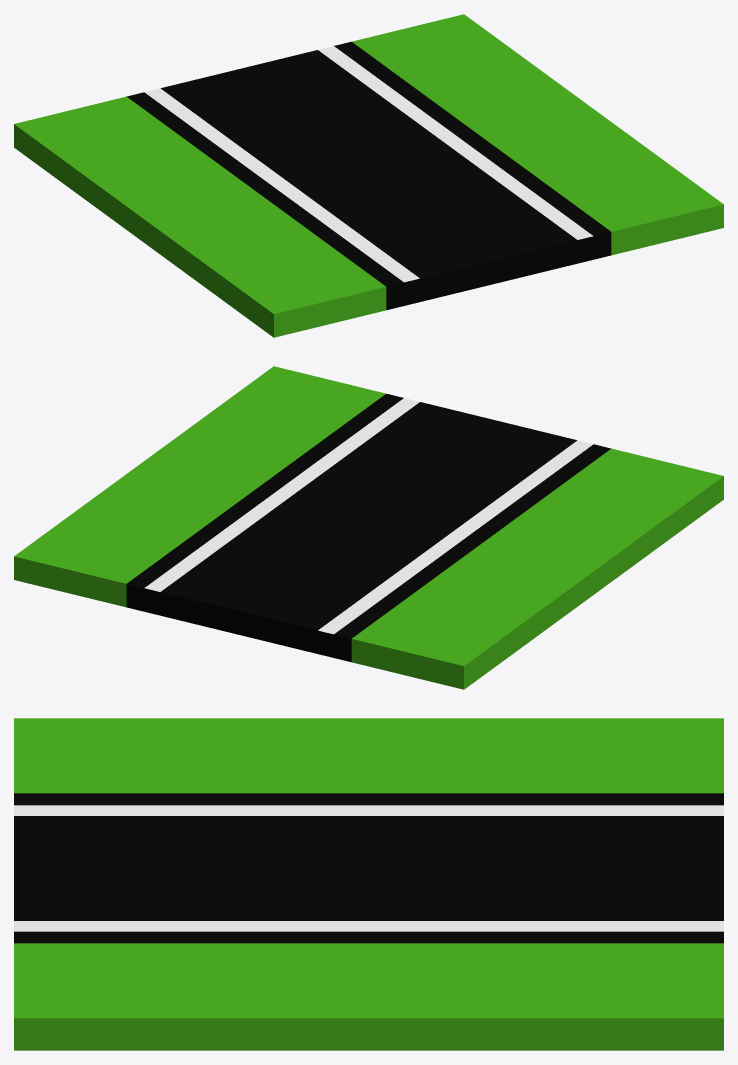
File: halfroad_export.fbx
3 views of the same model, one above another, from view 1: azimuth 30°, elevation 25°; view 2: azimuth 150°, elevation 25°; view 3: azimuth 270°, elevation 25° (orthographic). The views are drawn at different scales.
Parts seen in each view (by area): view 1: Cube.004; view 2: Cube.004; view 3: Cube.004.
Boxes of the visible parts, x1,y1,x2,y2 form: Cube.004: [14, 14, 723, 337]; Cube.004: [14, 366, 723, 689]; Cube.004: [14, 718, 723, 1050].
Bounding box in the file's own units: 2000 × 100 × 2000.
